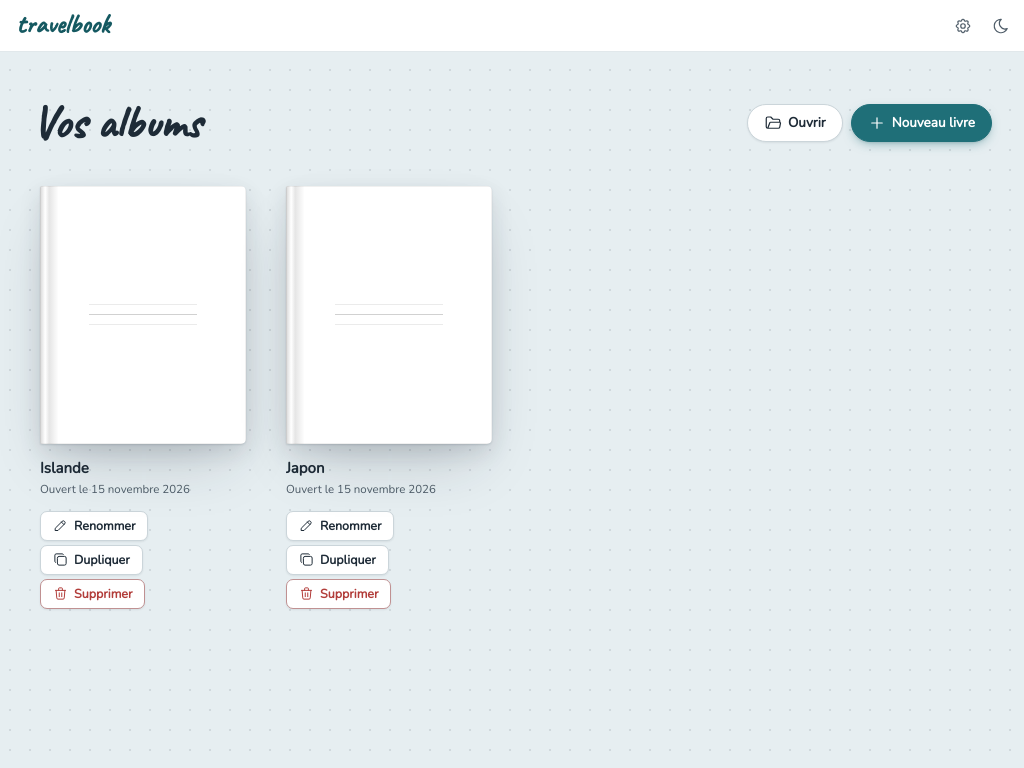
Test case: Home: delete an album › moves the album to the trash once confirmed and takes it out of the list
Expected: the text "Islande" is shown, [40,458,89,478]
Click the 1st button "Supprimer". click: (93, 594)
box: [40,579,146,609]
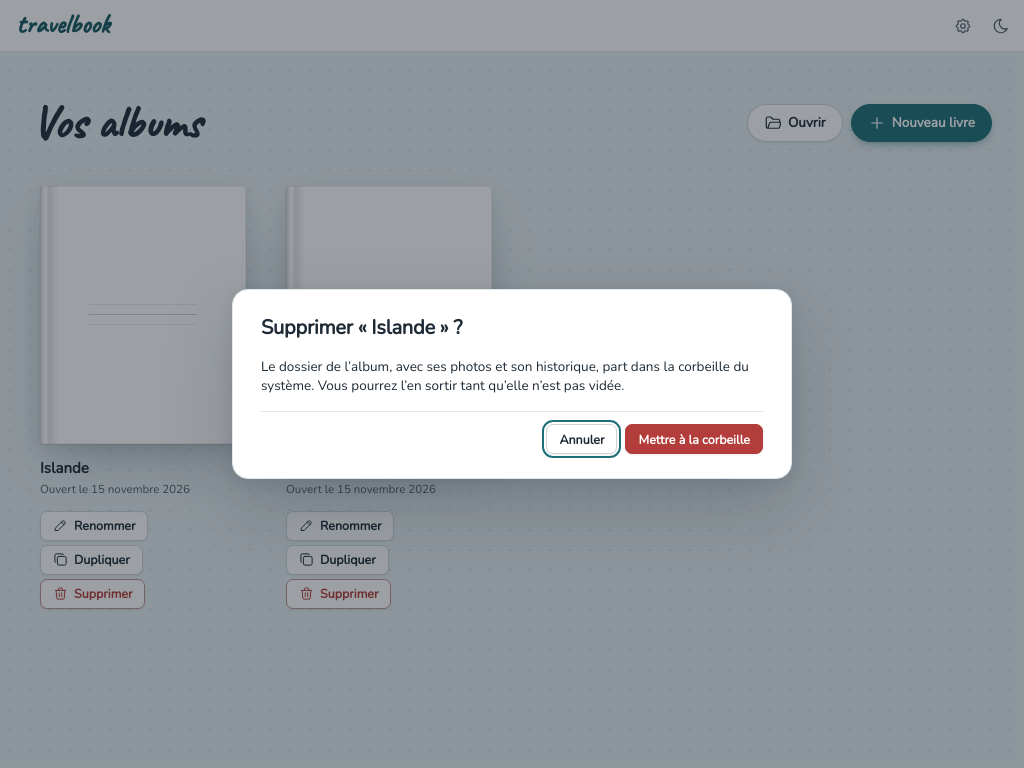
Click the button "Mettre à la corbeille". click: (694, 439)
box: [626,424,763,454]
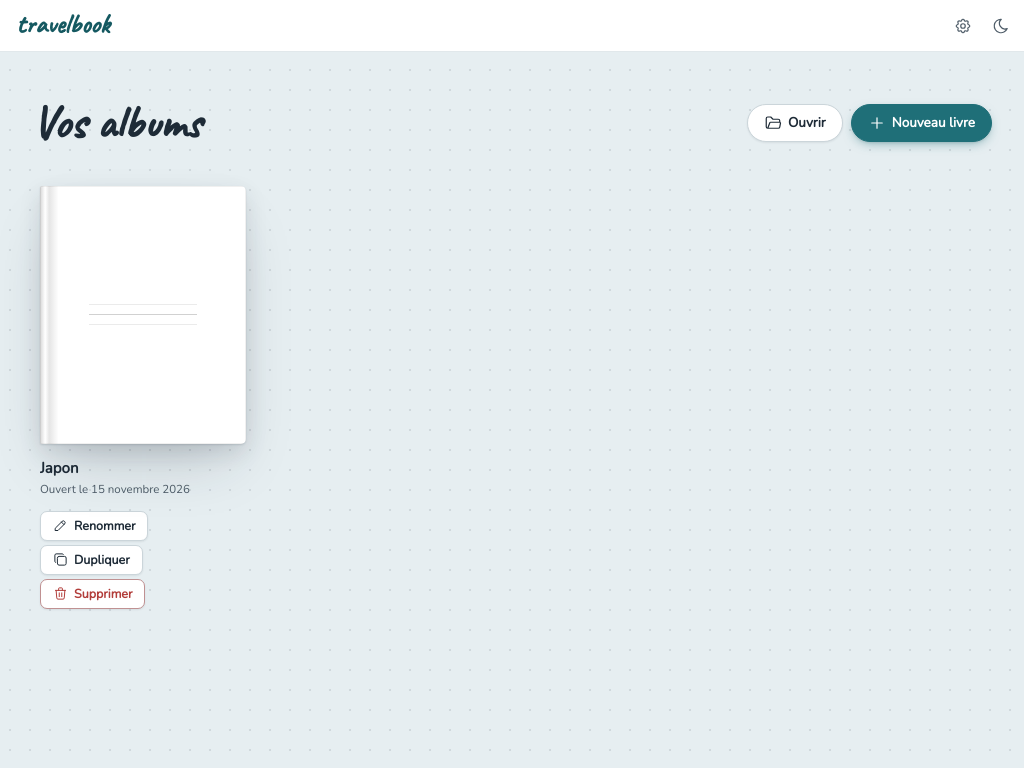
Expected: the text "Japon" is shown, [40,458,78,478]
Result: the button "Islande" is gone
Result: the dialog is gone
